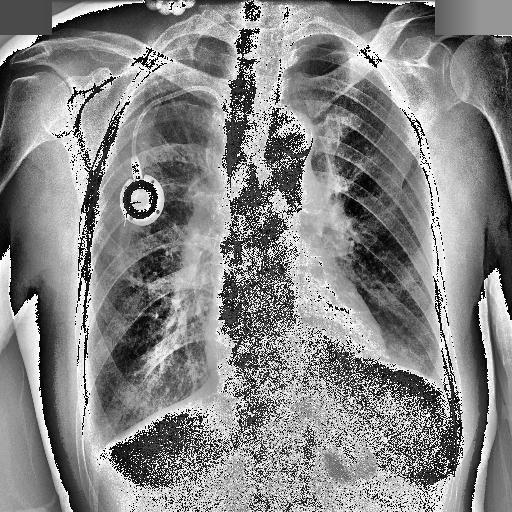0- Aortic enlargement: (262, 108, 314, 192), (264, 108, 314, 184), (265, 112, 314, 161)
10- Pleural effusion: (79, 406, 108, 480), (79, 424, 113, 470), (81, 426, 115, 468)
11- Pleural thickening: (287, 32, 347, 69), (79, 406, 108, 480), (81, 426, 115, 468), (438, 380, 463, 410)
13- Pulmonary fibrosis: (144, 75, 176, 105)
9- Other lesion: (144, 75, 176, 105)
